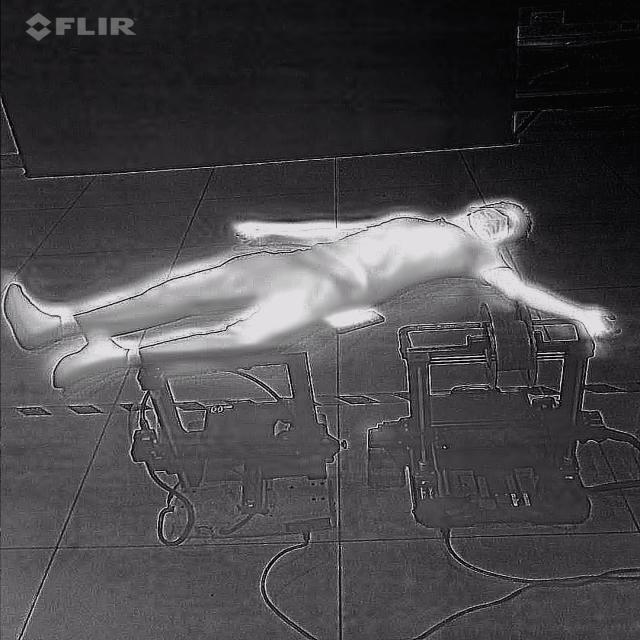Victim: (0, 184, 620, 397)
